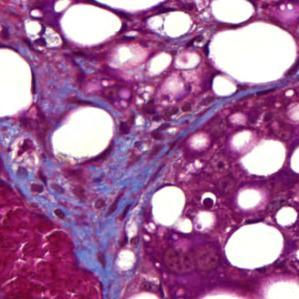steatosis: (53, 107, 115, 160), (56, 4, 123, 47), (149, 184, 187, 225)
